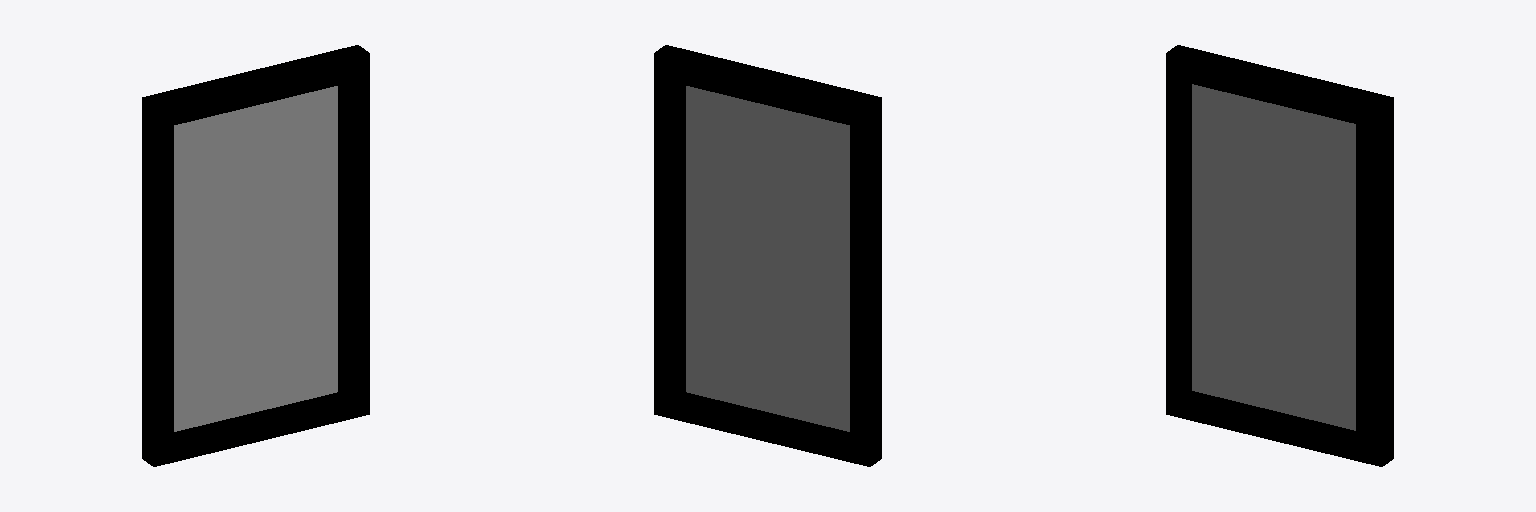
Rendered from mirror.obj.
3 views of the same model, side by side, from view 1: azimuth 30°, elevation 25°; view 2: azimuth 150°, elevation 25°; view 3: azimuth 330°, elevation 25° (orthographic).
Visible parts, largest first — view 1: pPlane1, pCube1; view 2: pPlane1, pCube1; view 3: pPlane1, pCube1.
Boxes of the visible parts, <box> form: pPlane1: <box>174,86,337,431</box>; pCube1: <box>142,45,369,466</box>; pPlane1: <box>686,86,849,431</box>; pCube1: <box>654,45,881,466</box>; pPlane1: <box>1192,84,1355,430</box>; pCube1: <box>1166,45,1393,466</box>.
Bounding box in the file's own units: 10.55 × 16.84 × 1.